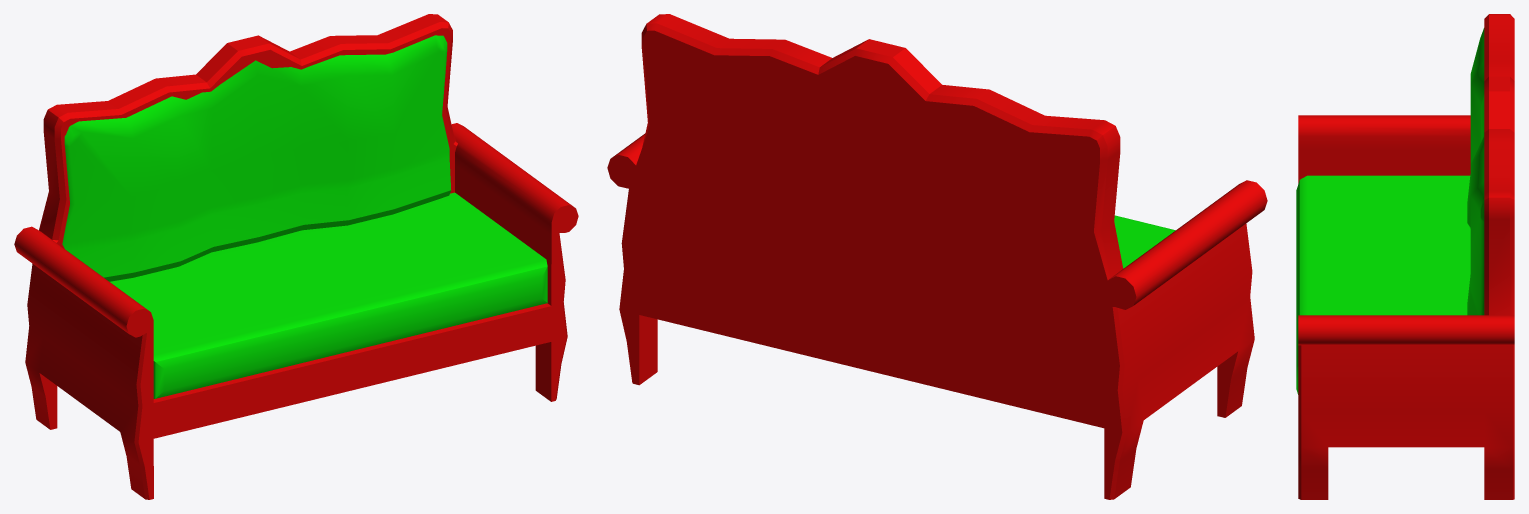
File: sm_sofa.fbx
3 renders of one model, left to right at view 1: azimuth 30°, elevation 25°; view 2: azimuth 150°, elevation 25°; view 3: azimuth 270°, elevation 25°, orthographic. The views are drawn at different scales.
Visible parts, largest first — view 1: SM_soffa; view 2: SM_soffa; view 3: SM_soffa.
Part boxes in pixels (x1=…): SM_soffa: x1=14, y1=14, x2=578, y2=499; SM_soffa: x1=607, y1=14, x2=1267, y2=499; SM_soffa: x1=1296, y1=14, x2=1514, y2=499.
Bounding box in the file's own units: 155 × 108 × 66.95.
